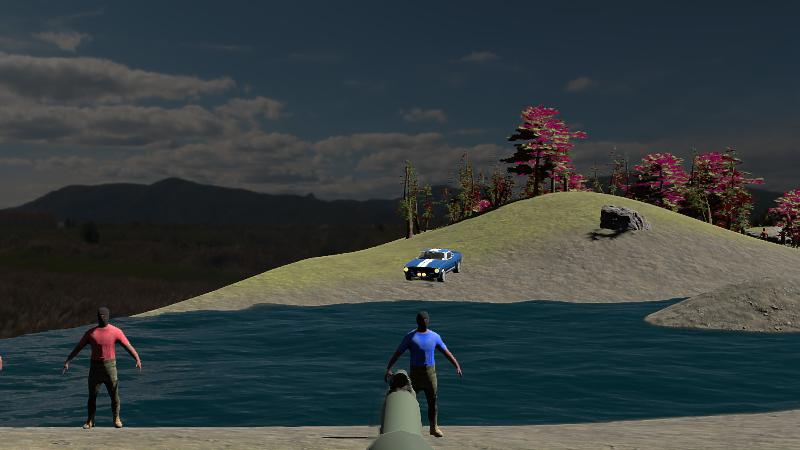Human: (64, 305, 141, 431), (386, 310, 461, 439)
car: (404, 247, 462, 282)
